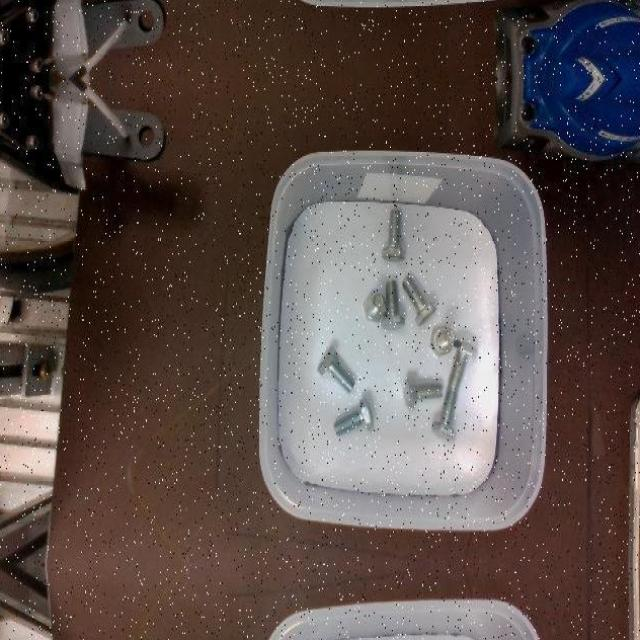screw: (402, 276, 436, 326), (317, 347, 354, 392), (333, 397, 373, 436), (448, 340, 478, 390), (431, 387, 458, 439), (378, 210, 405, 262), (404, 378, 444, 410), (380, 280, 404, 330), (429, 325, 456, 356), (362, 290, 386, 322)
